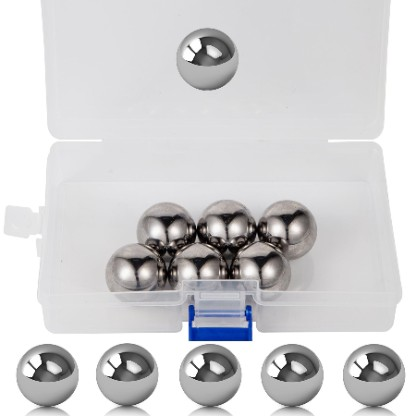ironball: (342, 343, 405, 406), (15, 343, 78, 406), (95, 342, 158, 405), (260, 343, 323, 406), (178, 343, 241, 406), (175, 27, 238, 90), (256, 199, 317, 260), (136, 201, 196, 262), (196, 199, 256, 259), (229, 241, 291, 291), (105, 242, 167, 292), (167, 242, 229, 290)
